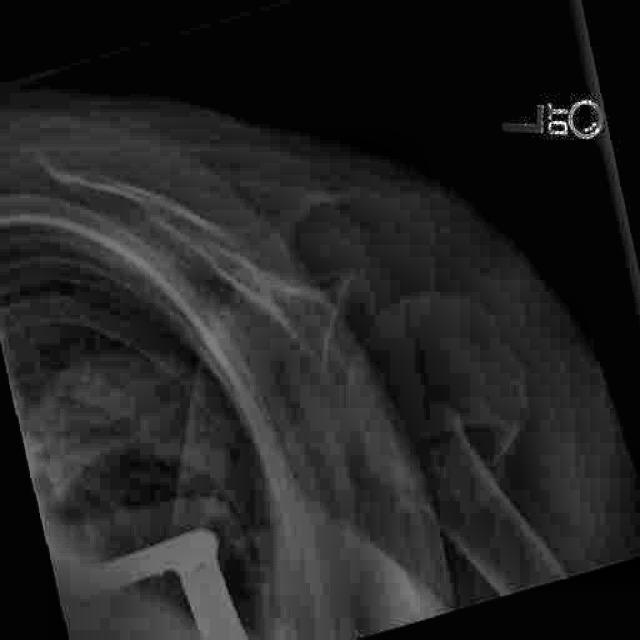shoulder fracture: (418, 371, 541, 516)
